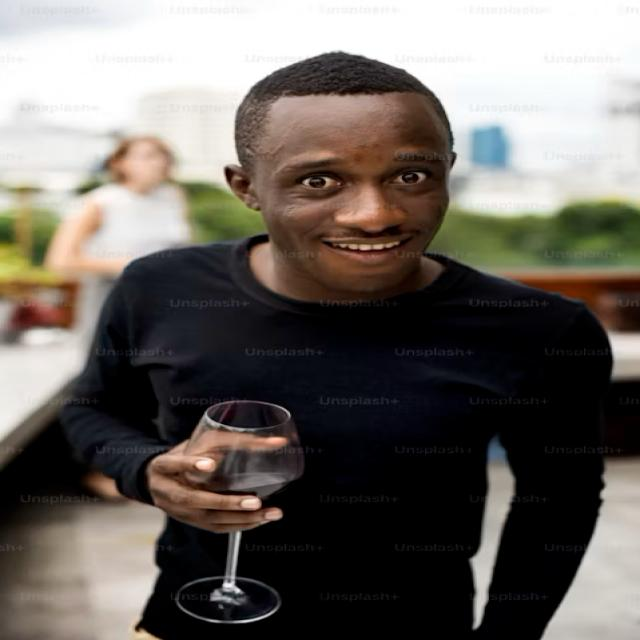Edited images: (50, 43, 601, 640)
